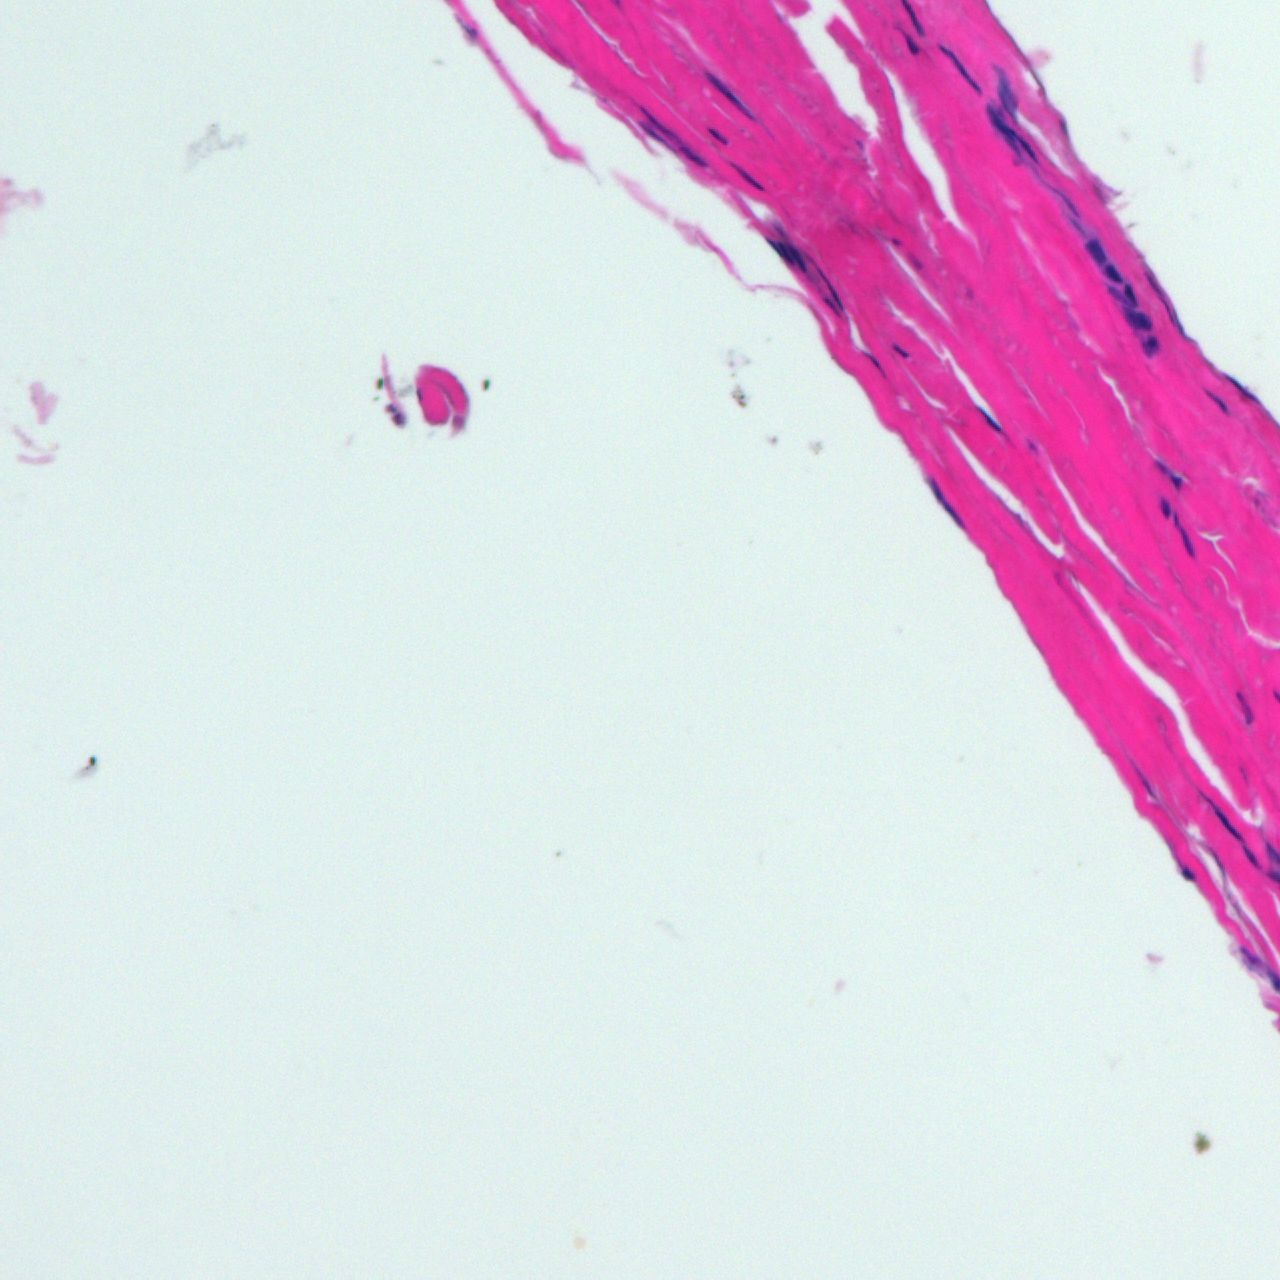nucleus-HE: (978, 96, 1041, 173), (700, 66, 752, 121), (986, 61, 1025, 122), (939, 42, 982, 96), (923, 475, 966, 529), (1200, 790, 1241, 842), (1148, 452, 1192, 496), (1124, 752, 1161, 804), (812, 256, 847, 310), (637, 103, 680, 145), (1223, 370, 1265, 411), (731, 161, 768, 196), (765, 228, 796, 267), (1082, 233, 1110, 267), (1204, 384, 1233, 416), (1175, 524, 1199, 562), (637, 119, 668, 148), (1231, 690, 1256, 725), (1238, 844, 1267, 874), (1121, 308, 1155, 332), (1100, 259, 1127, 287), (976, 405, 1002, 432), (681, 147, 708, 172), (863, 349, 888, 376), (899, 29, 922, 57), (790, 245, 809, 274), (1140, 335, 1161, 357), (1121, 281, 1140, 305), (707, 125, 728, 145), (892, 342, 911, 361), (1160, 497, 1170, 519), (1181, 867, 1195, 881), (1173, 509, 1178, 526)
